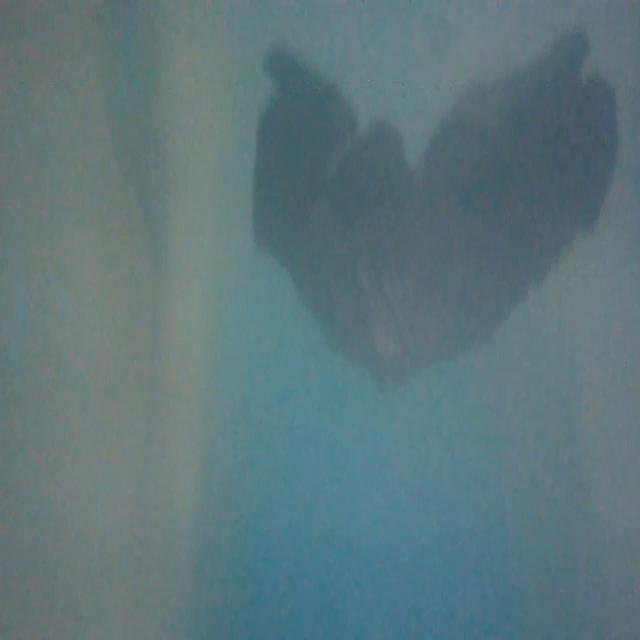plastic bags: (252, 25, 620, 402)
